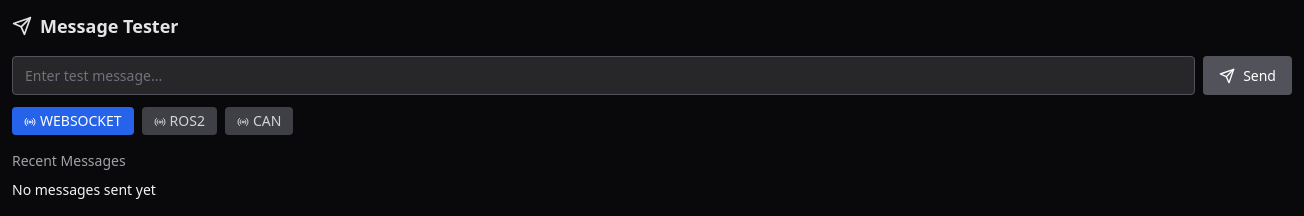
MessageTester Component › disables send button when message is empty
Check: the button "Send" is disabled, box [1203,56,1292,95]
Type "test" into the field with placeholder "Enter test message..." at [604, 76], box [12,56,1195,95]
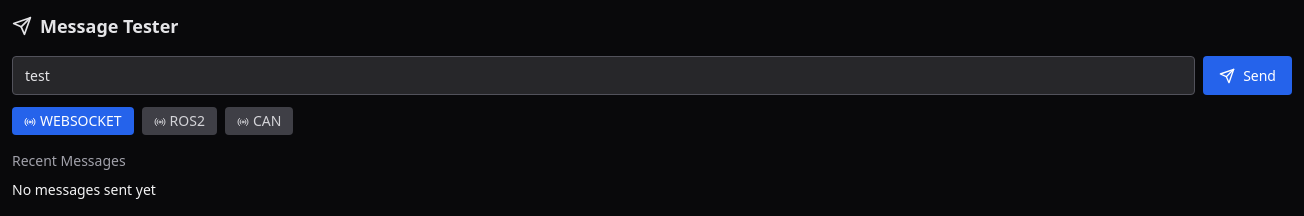
Check: the button "Send" is enabled, box [1203,56,1292,95]
